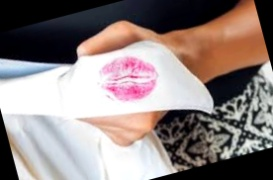lipstick: (94, 53, 163, 108)
